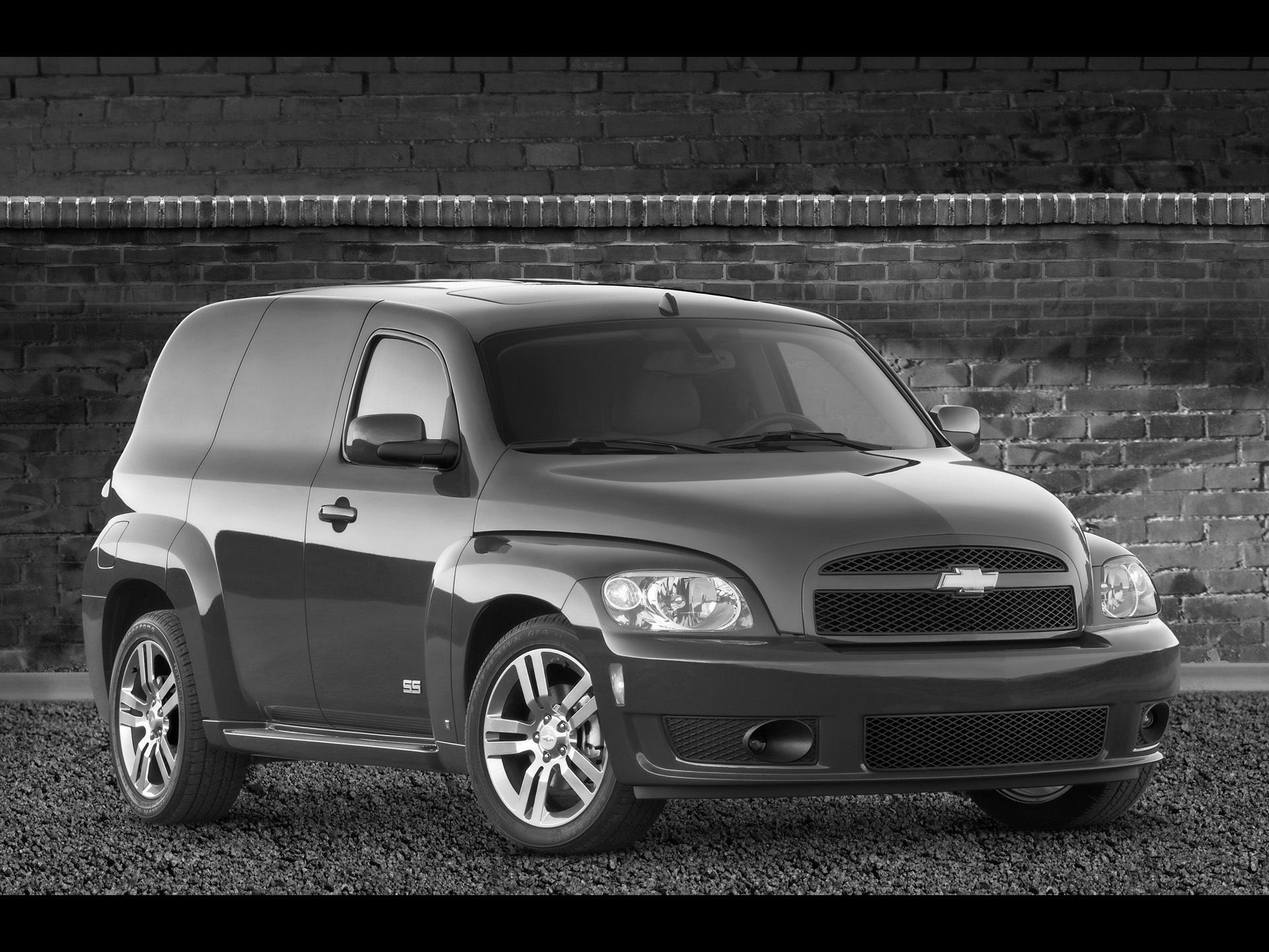car: (79, 270, 1186, 860)
